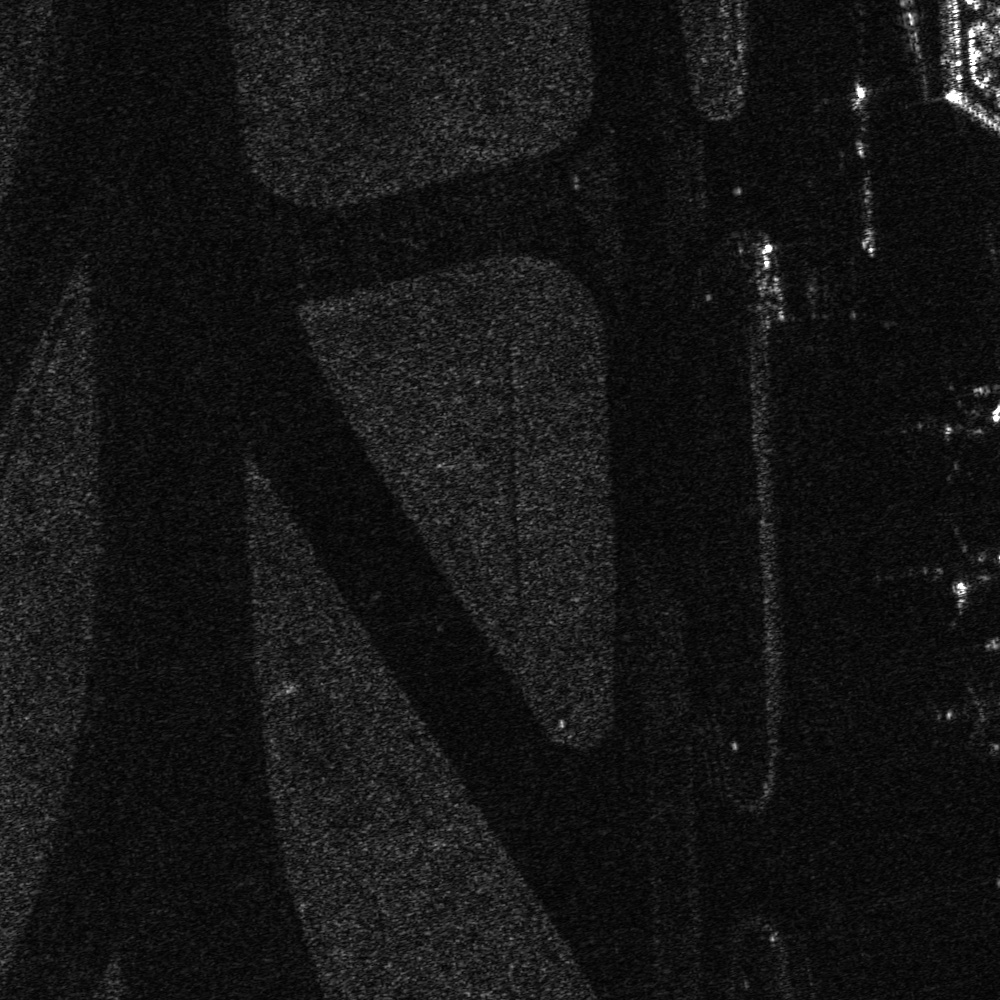ARJ21: (912, 511, 999, 620)
